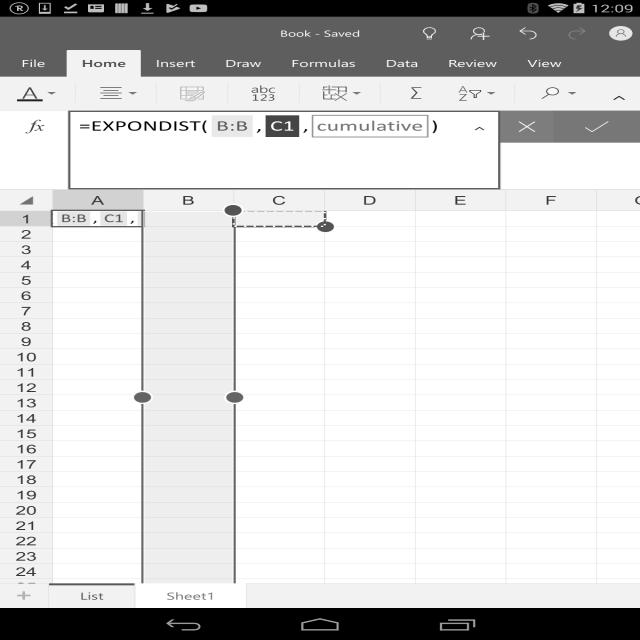Button: (553, 110, 640, 142), (500, 110, 554, 142), (0, 584, 48, 608), (410, 21, 450, 46), (508, 21, 548, 46), (557, 21, 597, 46), (599, 81, 636, 106)
ImageButton: (448, 115, 499, 138)
ImageView: (609, 26, 633, 41)
TextView: (135, 583, 246, 608), (276, 50, 371, 77), (433, 50, 513, 77), (49, 583, 134, 608), (66, 50, 140, 77), (274, 23, 366, 44), (141, 50, 210, 77), (0, 50, 67, 77), (210, 50, 276, 77), (512, 50, 576, 77), (371, 50, 433, 77), (7, 80, 62, 108), (88, 80, 143, 108), (312, 80, 367, 108), (447, 80, 501, 108), (528, 80, 582, 108), (241, 80, 286, 108), (170, 80, 214, 108), (394, 80, 438, 108), (0, 110, 640, 111), (0, 189, 640, 190), (134, 583, 136, 608), (74, 84, 76, 104), (298, 84, 300, 104), (48, 583, 49, 608), (246, 583, 247, 608), (156, 84, 157, 104), (227, 84, 228, 104), (380, 84, 381, 104), (514, 84, 515, 104)
